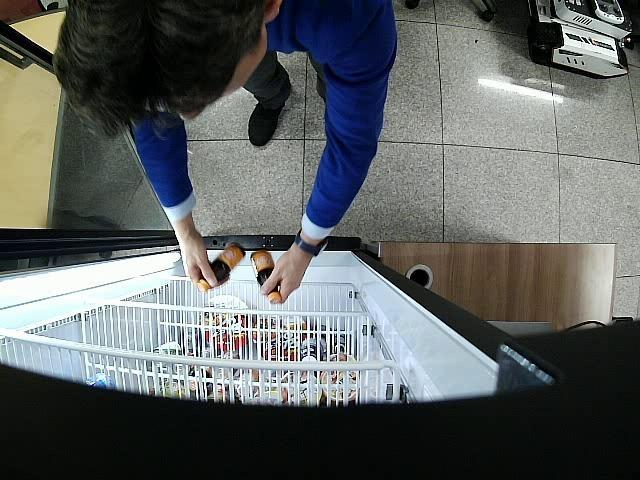17_vita500: (198, 242, 246, 292), (253, 249, 281, 303)
